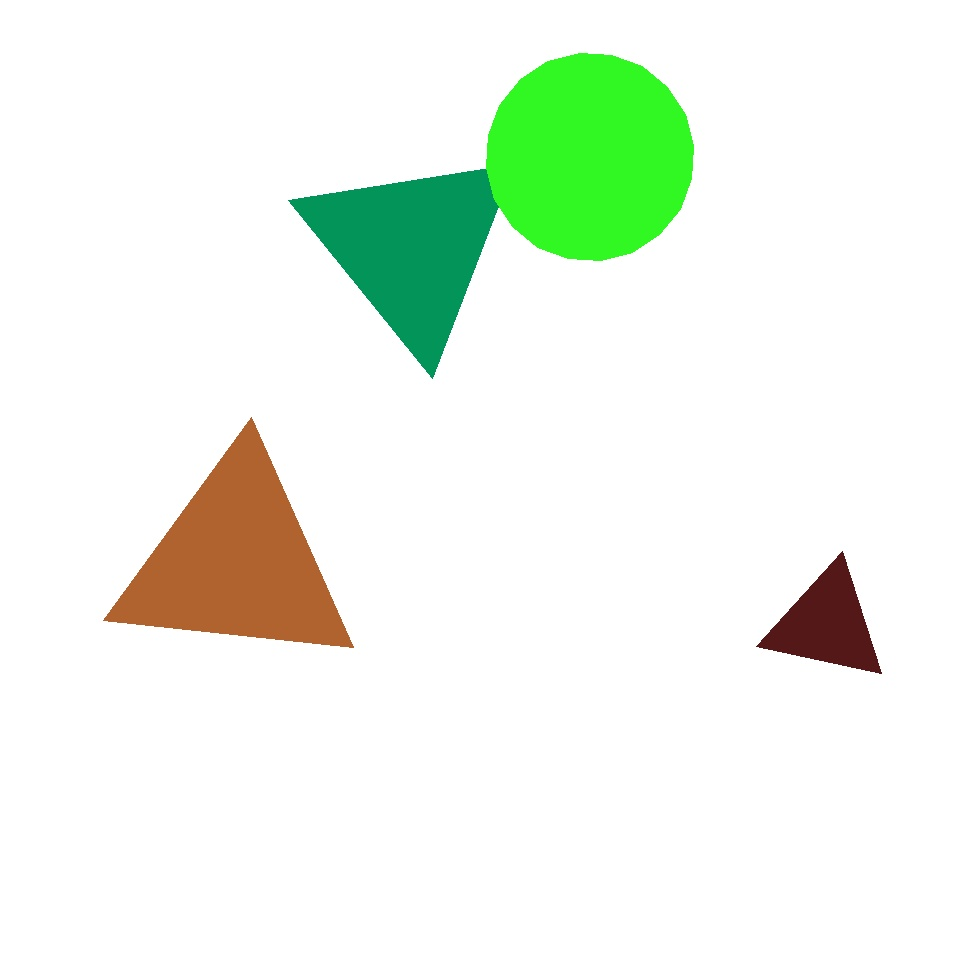circle: (170, 96, 440, 374), (111, 447, 361, 677), (299, 141, 525, 355), (764, 563, 890, 685)
square: (403, 17, 680, 294), (514, 72, 674, 234)
triangle: (8, 544, 282, 818), (314, 36, 564, 288), (487, 54, 694, 260), (230, 654, 432, 858)
